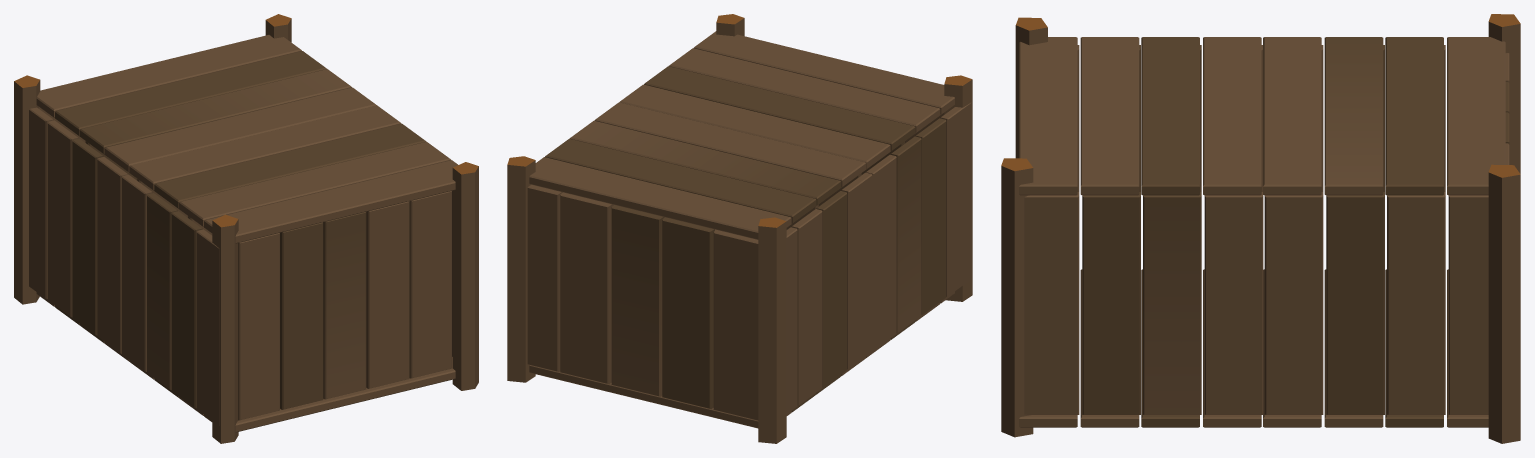
File: WoodenBox.fbx
3 views of the same model, side by side, from view 1: azimuth 30°, elevation 25°; view 2: azimuth 150°, elevation 25°; view 3: azimuth 270°, elevation 25° (orthographic). The views are drawn at different scales.
Parts seen in each view (by area): view 1: polySurface218; view 2: polySurface218; view 3: polySurface218.
Boxes of the visible parts, left/top/right/bottom form: polySurface218: left=14, top=14, right=478, bottom=443; polySurface218: left=507, top=14, right=972, bottom=443; polySurface218: left=1001, top=14, right=1520, bottom=443.
Size of the model in its own units: 84.23 by 63.76 by 113.
Materials: 1 (1 with a texture image).
